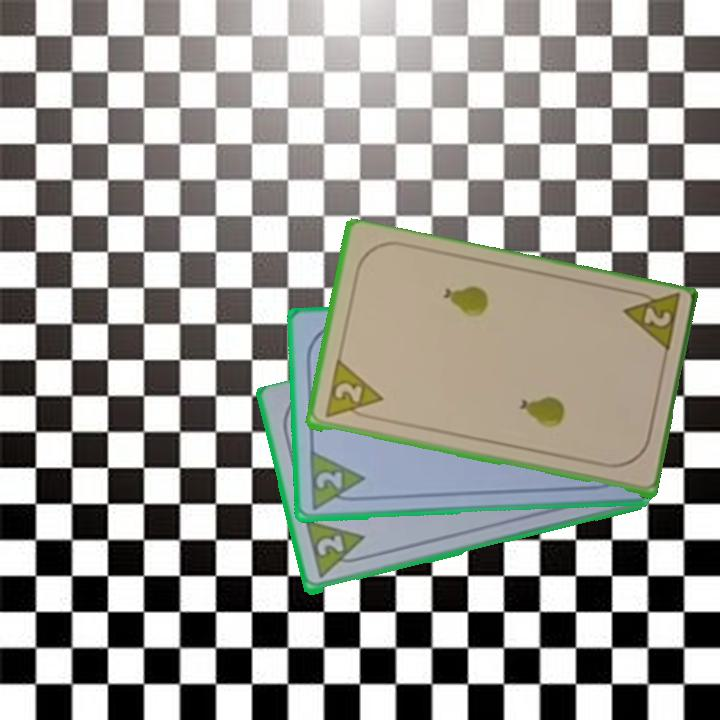2p: (618, 286, 683, 358), (321, 359, 385, 422), (305, 448, 367, 513), (313, 532, 346, 560)
